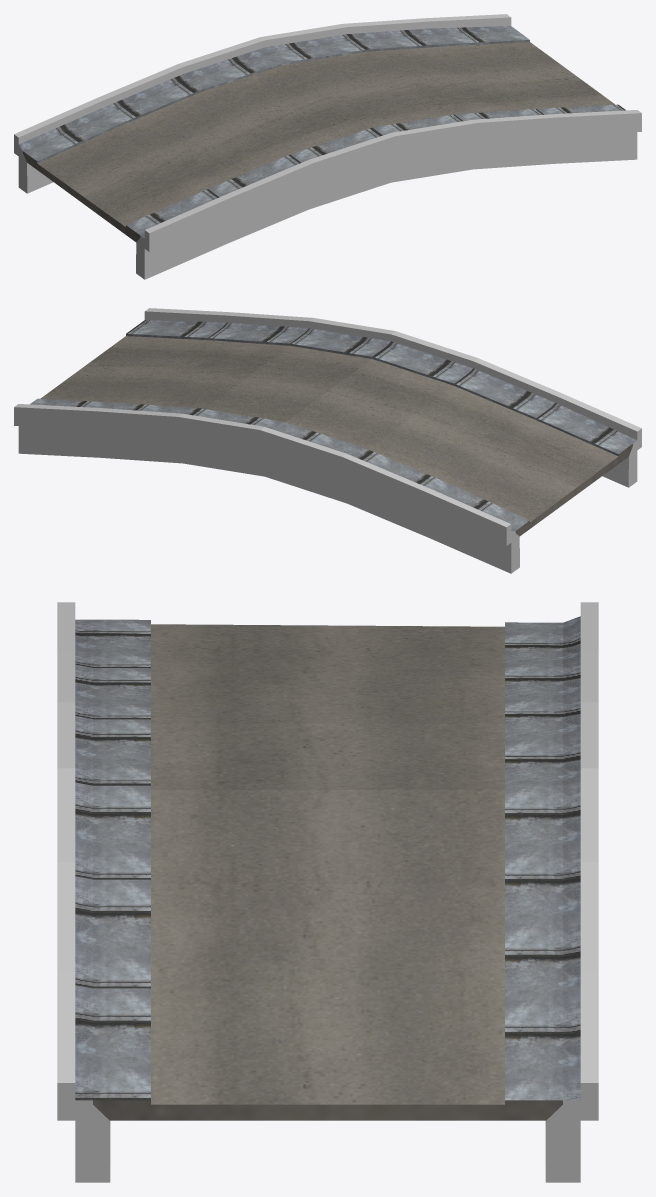
The model's file is Urban_Road3SmallBridge_Model.fbx.
3 views of the same model, one above another, from view 1: azimuth 30°, elevation 25°; view 2: azimuth 150°, elevation 25°; view 3: azimuth 270°, elevation 25° (orthographic). The views are drawn at different scales.
Parts seen in each view (by area): view 1: Urban_Road3SmallBridge_Mesh; view 2: Urban_Road3SmallBridge_Mesh; view 3: Urban_Road3SmallBridge_Mesh.
Boxes of the visible parts, <box> form: Urban_Road3SmallBridge_Mesh: <box>14,14,641,279</box>; Urban_Road3SmallBridge_Mesh: <box>14,308,641,573</box>; Urban_Road3SmallBridge_Mesh: <box>57,602,598,1182</box>.
Size of the model in its own units: 36 by 6.07 by 17.13.
